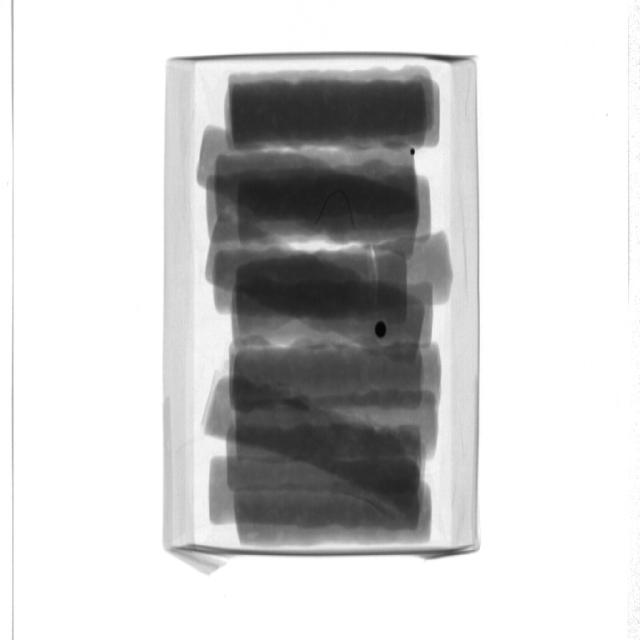ym: (317, 192, 361, 232), (376, 321, 388, 339), (411, 148, 416, 159)
